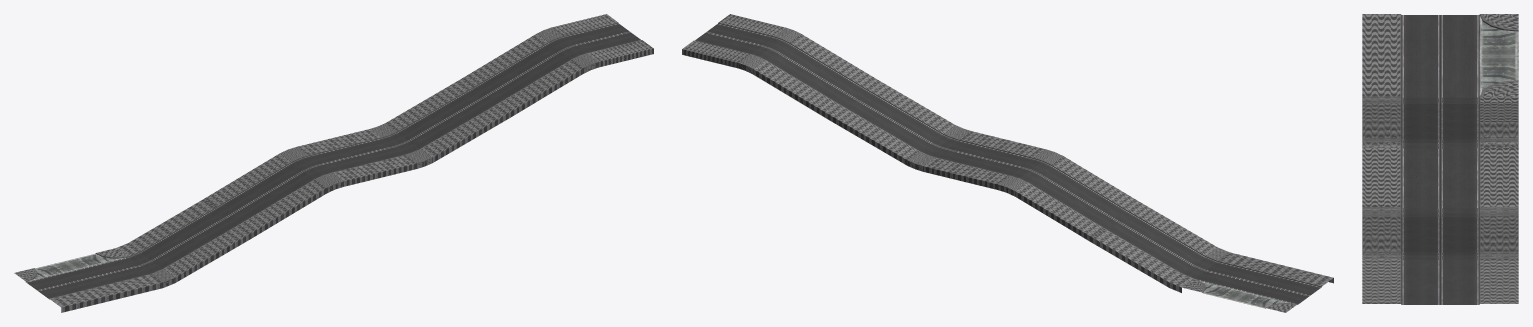
File: road_sfw14.obj
3 views of the same model, side by side, from view 1: azimuth 30°, elevation 25°; view 2: azimuth 150°, elevation 25°; view 3: azimuth 270°, elevation 25° (orthographic). The views are drawn at different scales.
Visible parts, largest first — view 1: road_SFW14; view 2: road_SFW14; view 3: road_SFW14.
Boxes of the visible parts, x1,y1,x2,y2 form: road_SFW14: (14,14,653,312); road_SFW14: (682,14,1333,312); road_SFW14: (1362,14,1518,304).
Size of the model in its own units: 145 by 28 by 20.01.
Materials: 3 (3 with a texture image).
